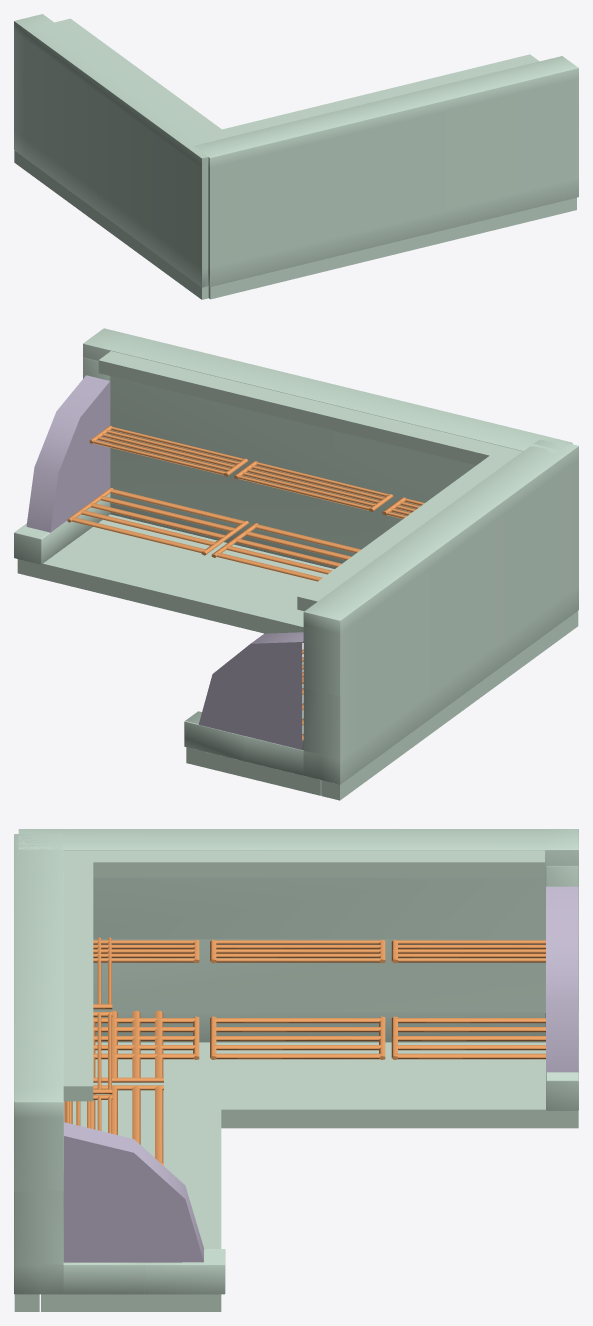
Rendered from freezer-2.glb.
3 renders of one model, top to bottom at view 1: azimuth 30°, elevation 25°; view 2: azimuth 150°, elevation 25°; view 3: azimuth 270°, elevation 25°, orthographic. The views are drawn at different scales.
Visible parts, largest first — view 1: Cylinder001; view 2: Cylinder001, Object002, Box007; view 3: Cylinder001, Box007, Object002.
Part boxes in pixels (x1,y1,x2,y2): Cylinder001: (14,14,578,299); Cylinder001: (14,328,578,800); Object002: (26,375,303,749); Box007: (67,426,424,740); Cylinder001: (14,829,578,1311); Box007: (64,937,545,1165); Object002: (63,886,578,1262).
Bounding box in the file's own units: 0.8412 × 0.3033 × 0.7353.
